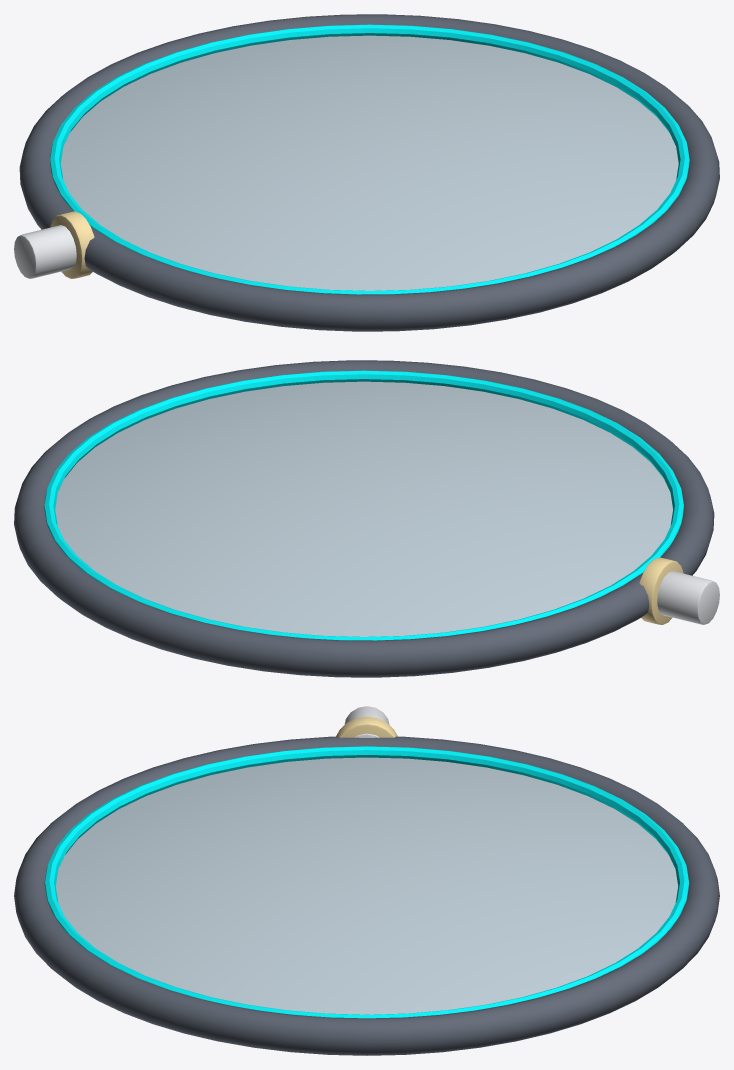
File: convex_lens.glb
3 views of the same model, one above another, from view 1: azimuth 30°, elevation 25°; view 2: azimuth 150°, elevation 25°; view 3: azimuth 270°, elevation 25° (orthographic).
Parts seen in each view (by area): view 1: LensGlass; view 2: LensGlass; view 3: LensGlass.
Boxes of the visible parts, box(x1,y1,x2,y2) form: LensGlass: box(14, 14, 719, 331); LensGlass: box(14, 360, 719, 677); LensGlass: box(14, 706, 719, 1055).
Size of the model in its own units: 7.23 by 0.7976 by 6.76.
